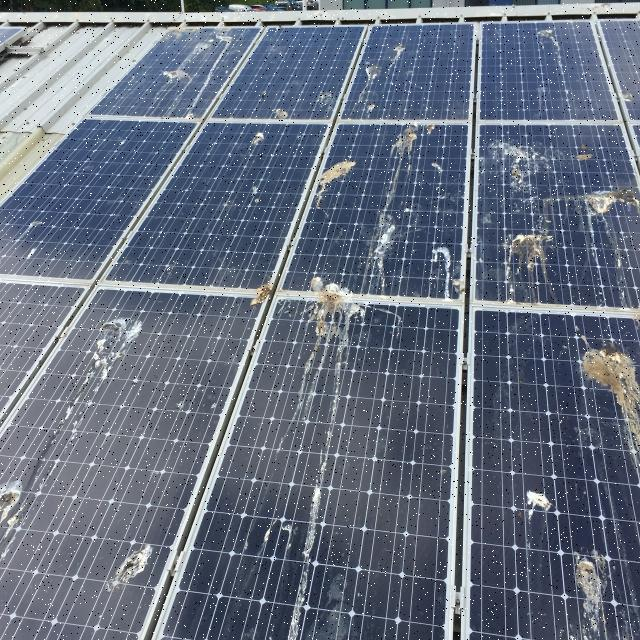bird drop: (160, 24, 634, 634), (12, 290, 160, 592)
